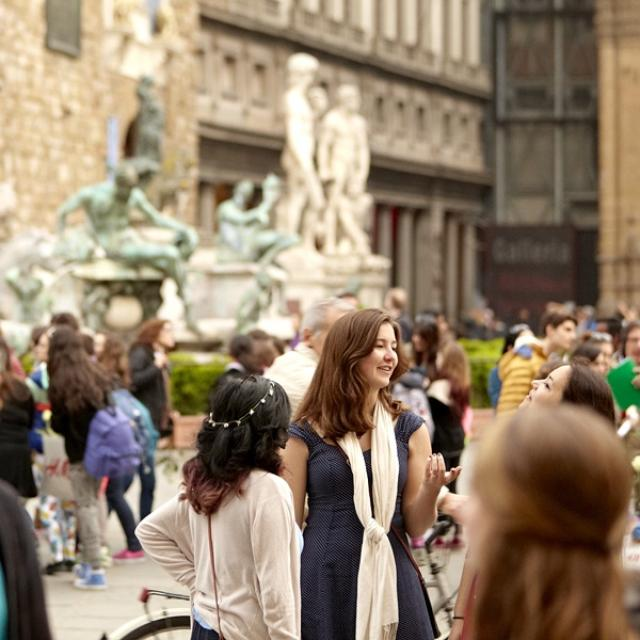body: (0, 0, 398, 350), (281, 307, 465, 638), (129, 365, 323, 639), (462, 397, 640, 639), (44, 327, 118, 588), (106, 314, 180, 538), (0, 348, 53, 639), (487, 299, 640, 398), (258, 294, 365, 431), (95, 344, 145, 561), (397, 277, 449, 476), (493, 311, 580, 424), (421, 340, 474, 492), (218, 349, 282, 381), (77, 349, 130, 381), (31, 323, 61, 365), (388, 376, 398, 408)
